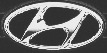Hyundai: (1, 1, 107, 53)
